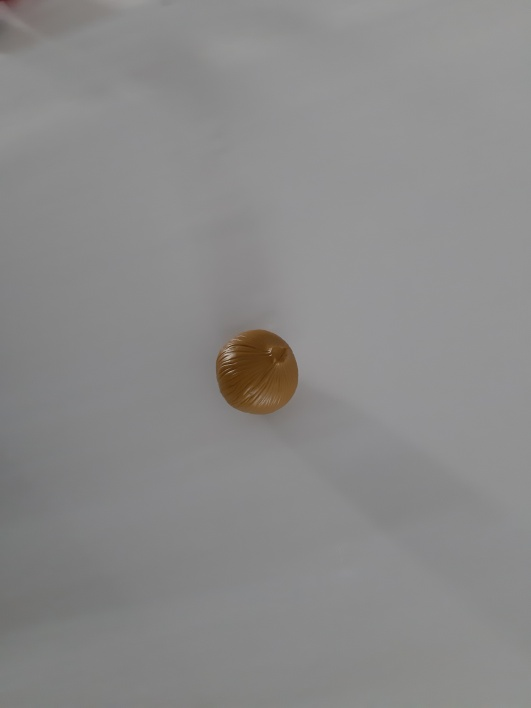onion: (207, 317, 312, 430)
